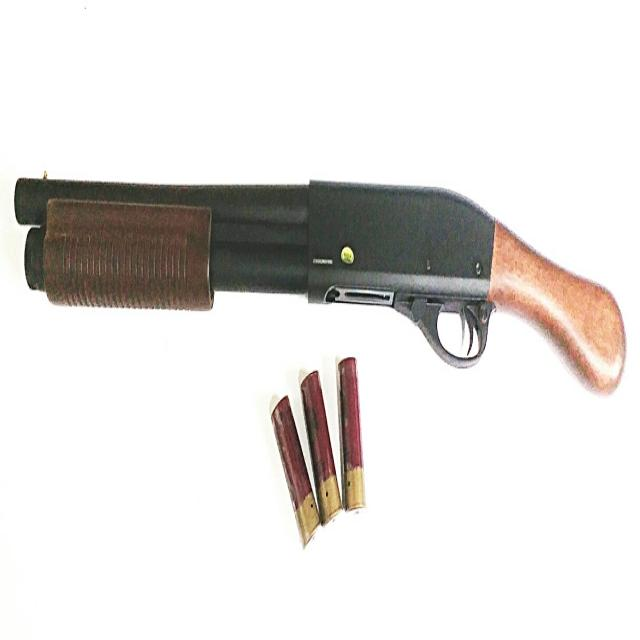ShotGun: (13, 177, 628, 394)
